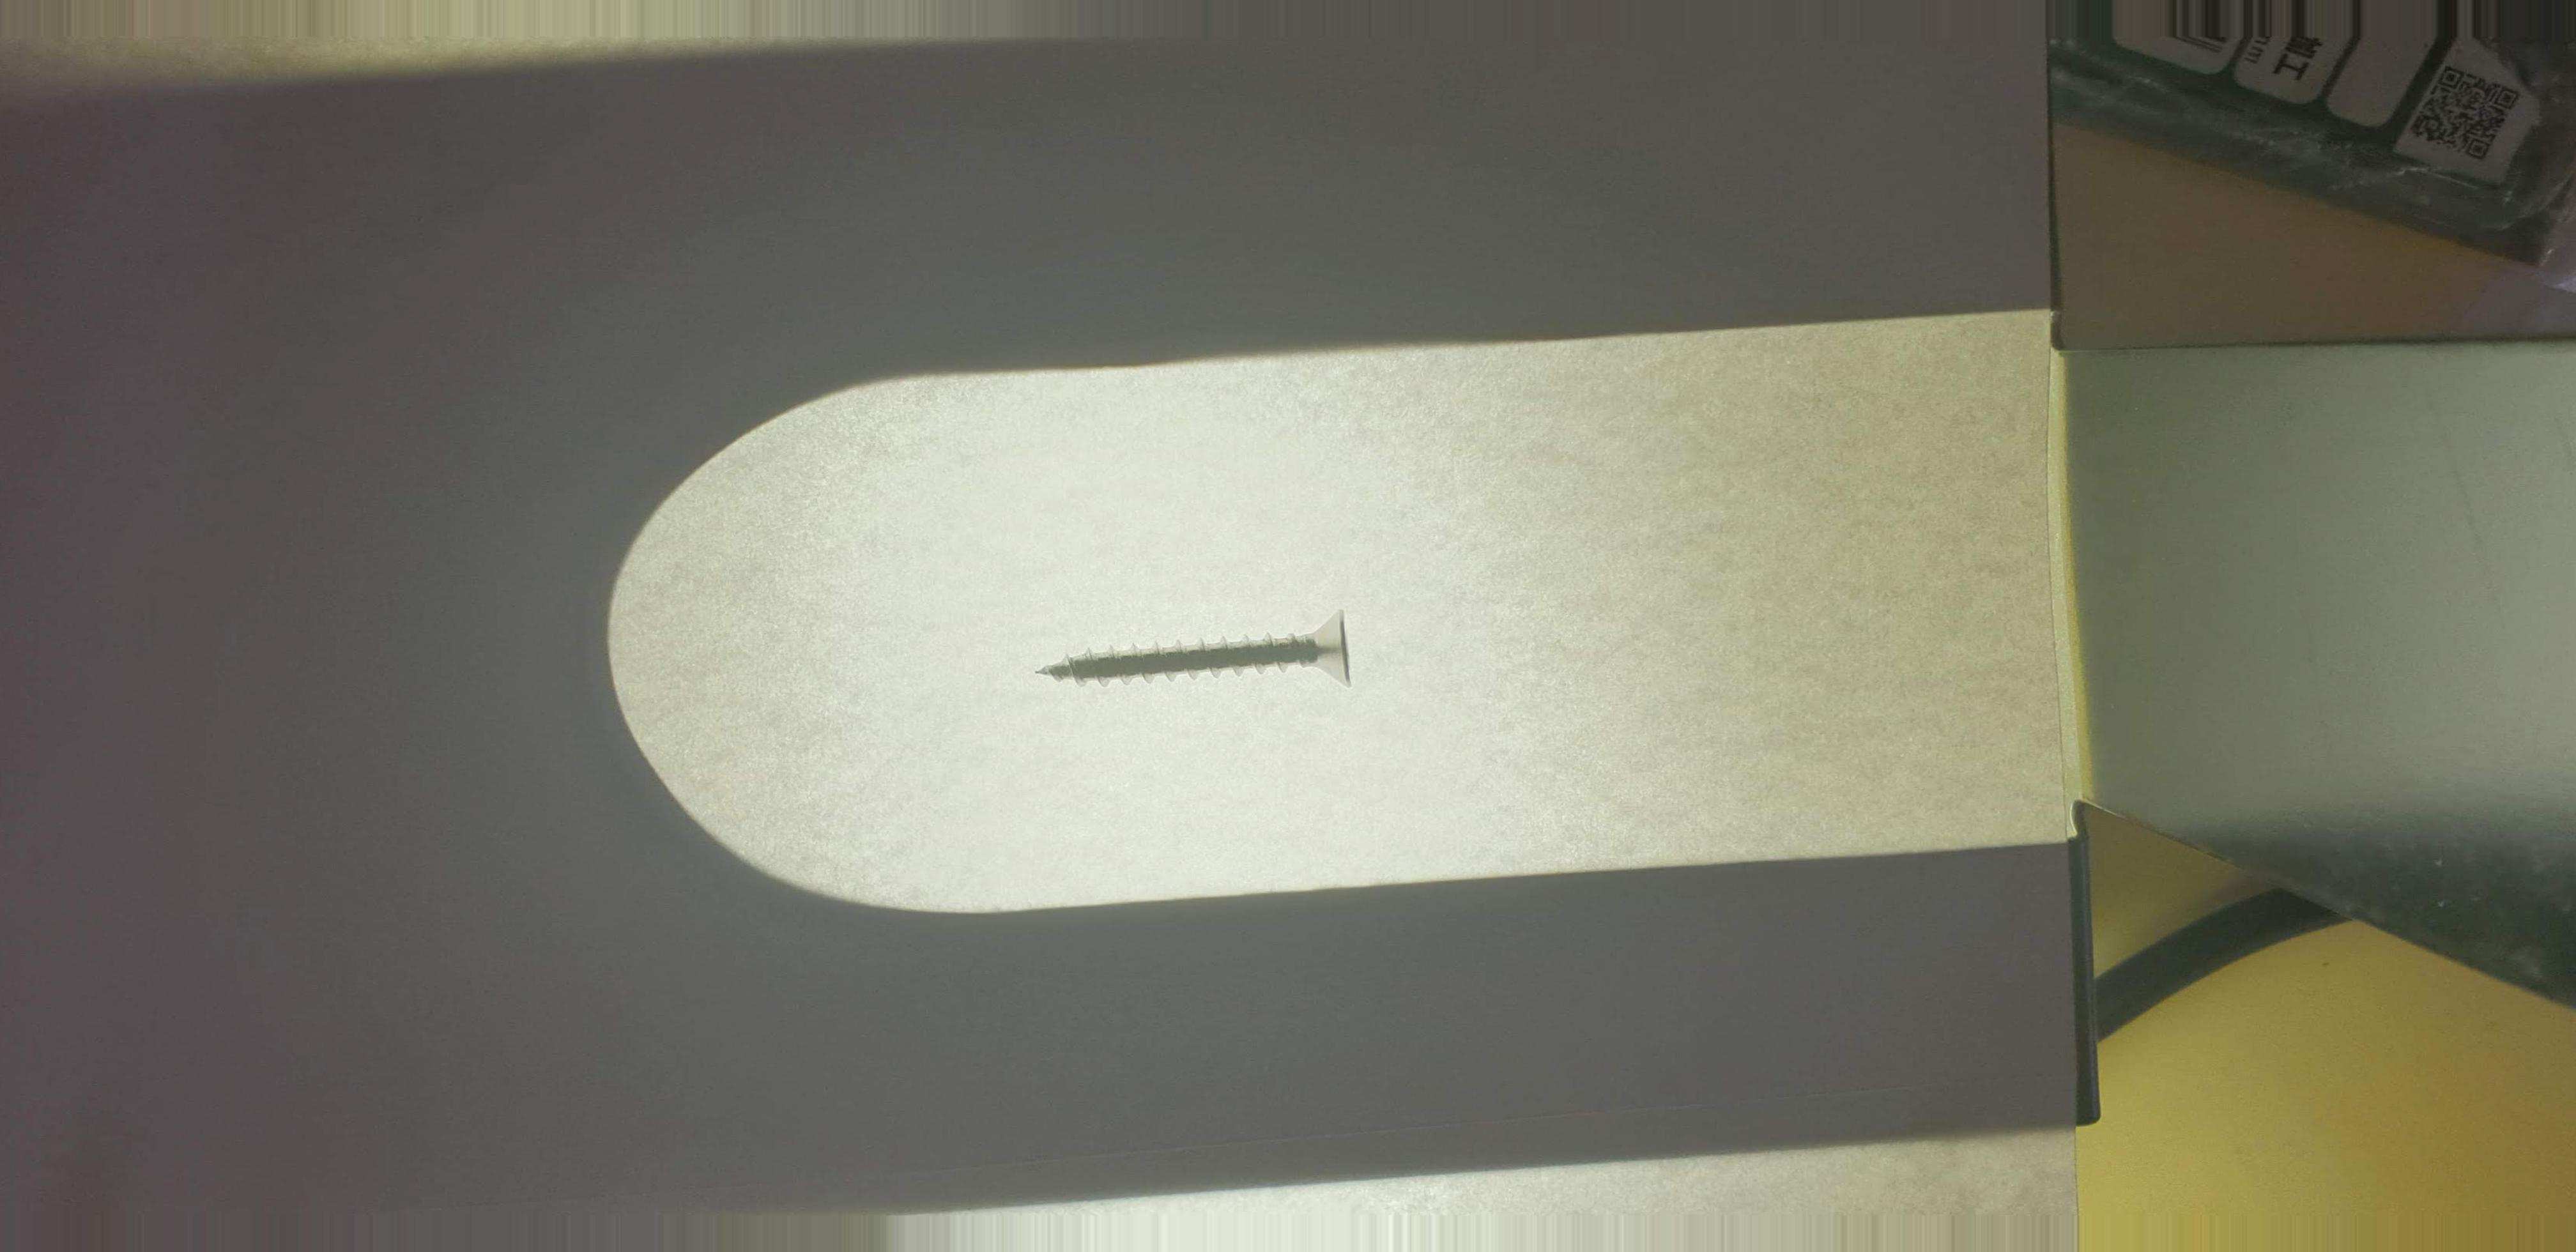S004: (1019, 580, 1368, 733)
